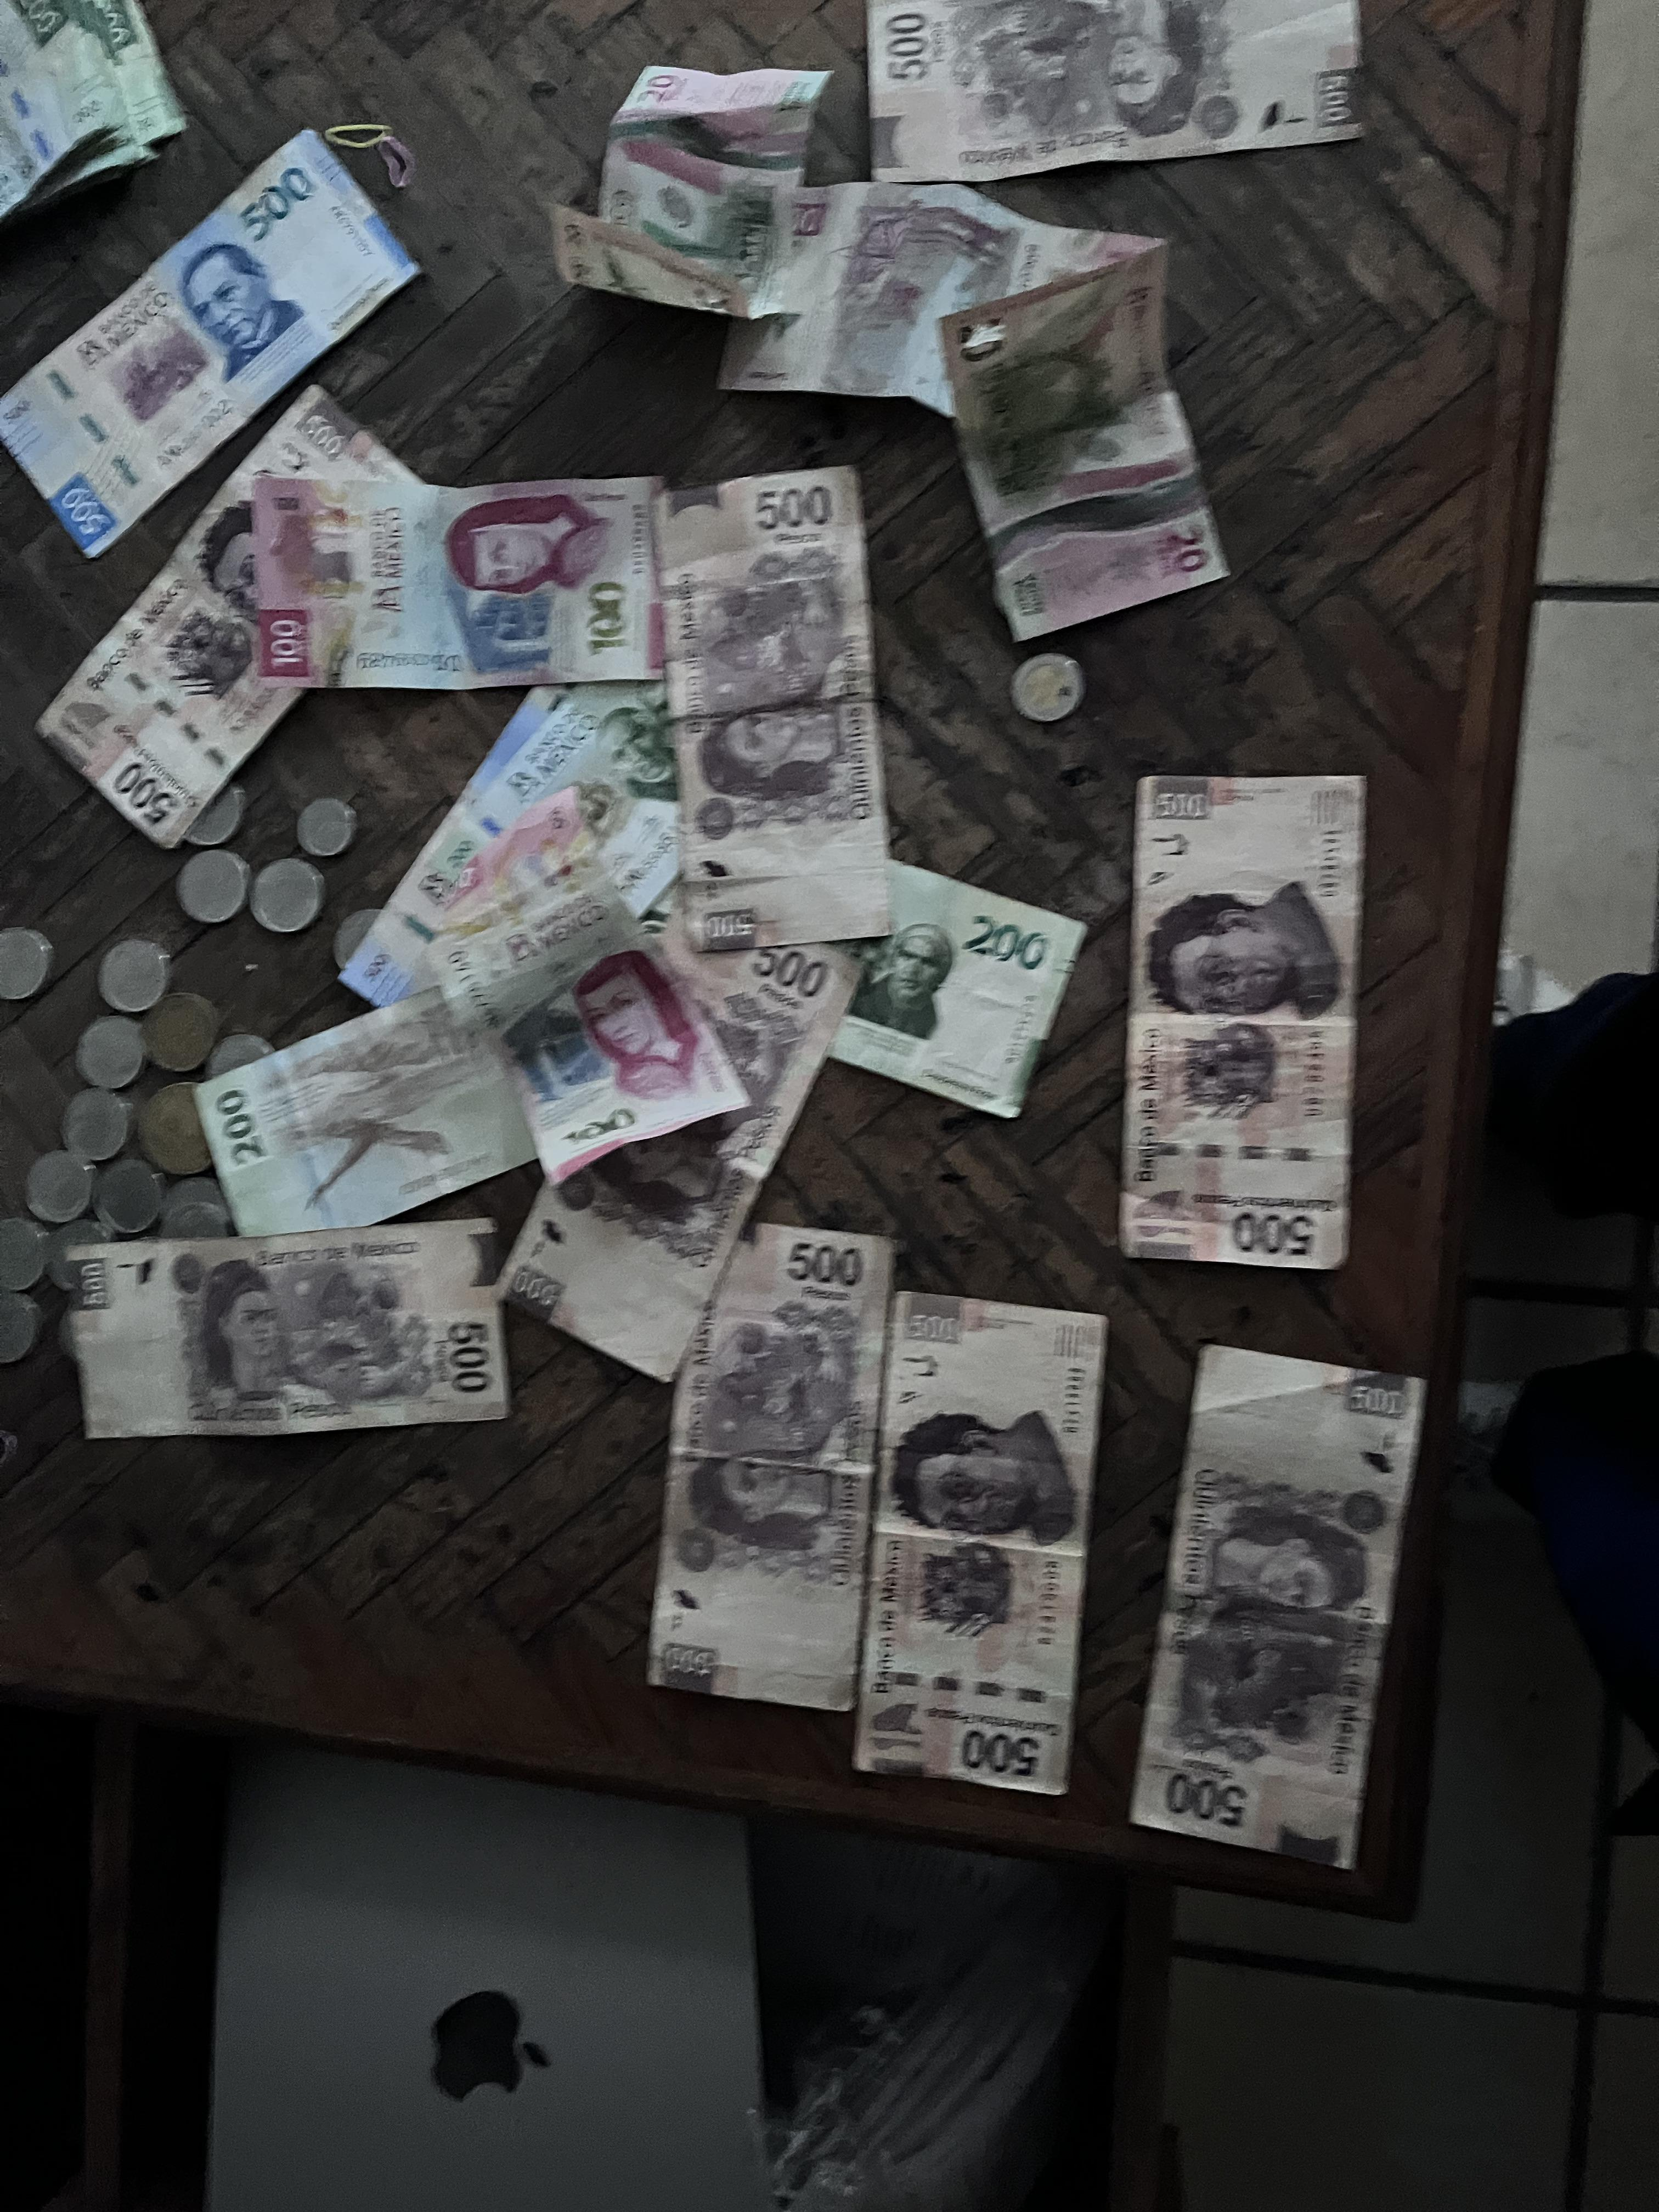100: (433, 793, 735, 1182), (710, 177, 1211, 398)
20: (916, 222, 1240, 642), (565, 55, 815, 314)
200: (159, 971, 598, 1246), (786, 833, 1092, 1141), (0, 0, 189, 228), (480, 680, 679, 896)
500: (38, 376, 452, 844), (1138, 1325, 1435, 1882), (554, 891, 849, 1374), (842, 1270, 1104, 1804), (639, 1210, 905, 1720), (1116, 741, 1362, 1284), (645, 455, 903, 947), (49, 1218, 534, 1451), (853, 0, 1367, 189)
500 nuevo: (0, 145, 436, 551)
